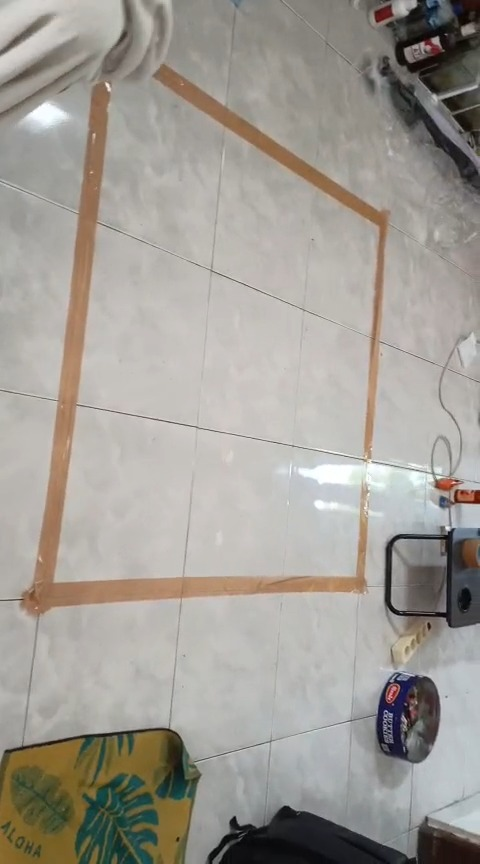floor marking: (155, 66, 387, 463), (22, 85, 181, 615), (284, 513, 367, 592), (185, 576, 281, 596)
